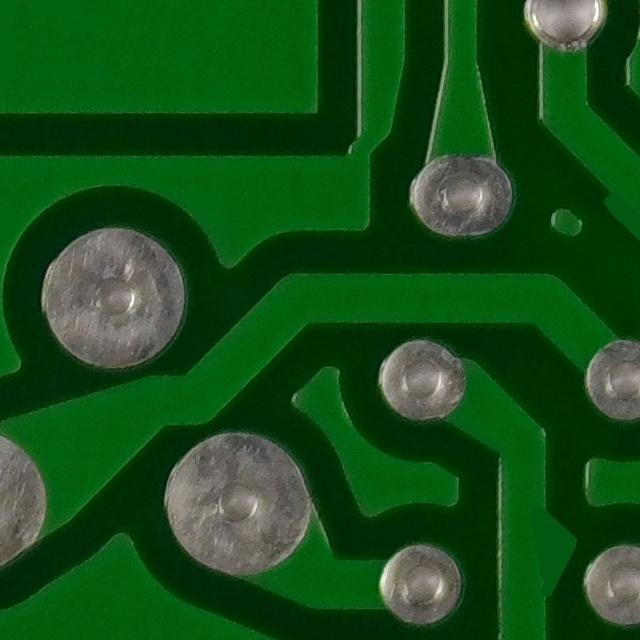spur: (502, 495, 583, 610)
